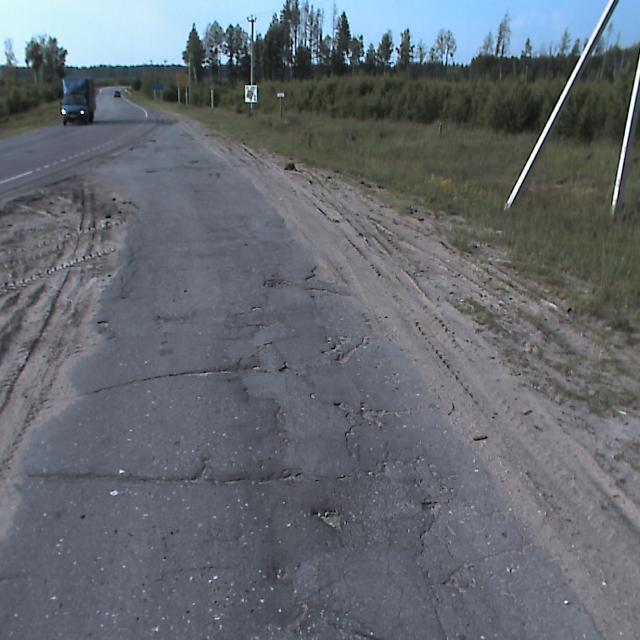road: (0, 86, 602, 639)
